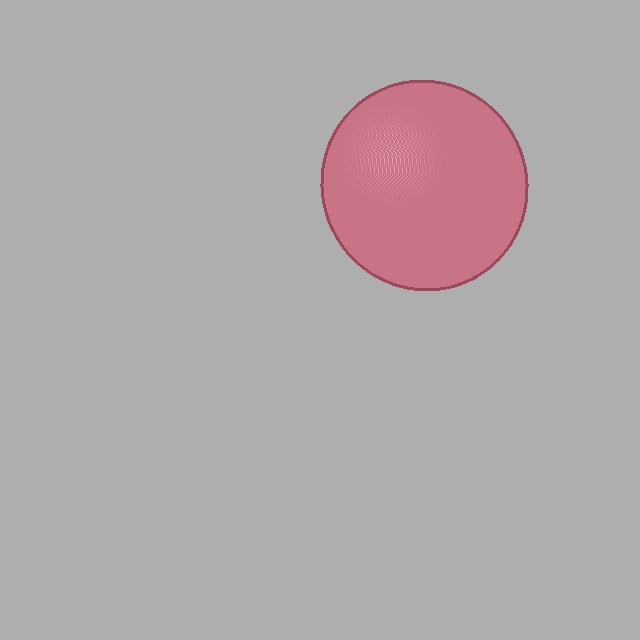lens: (322, 81, 526, 289)
